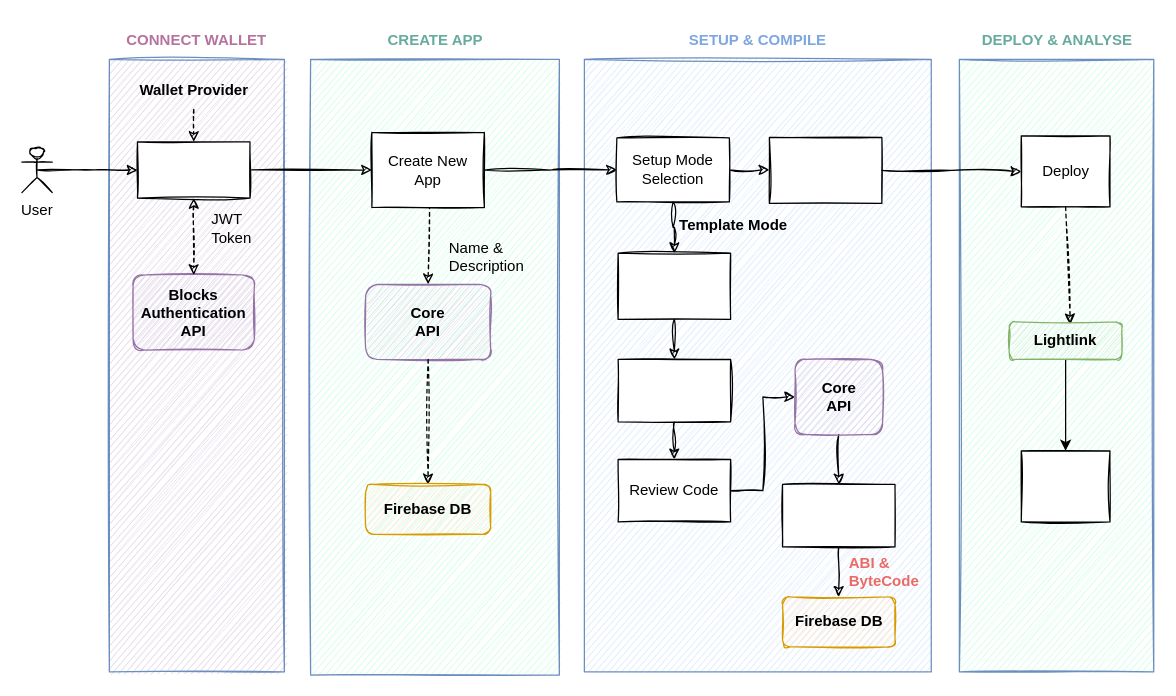
Some shapes in this 1176 by 696 pixel diagram are drawn without their labels. The centre of each missing label's shape, as x and y in pixels:
Analytics & Insights: the point at 1065,486
Compile: the point at 838,515
Enter Contract Details: the point at 674,390
Finish Setup: the point at 825,169
Select Template: the point at 674,285
Sign In: the point at 193,169
